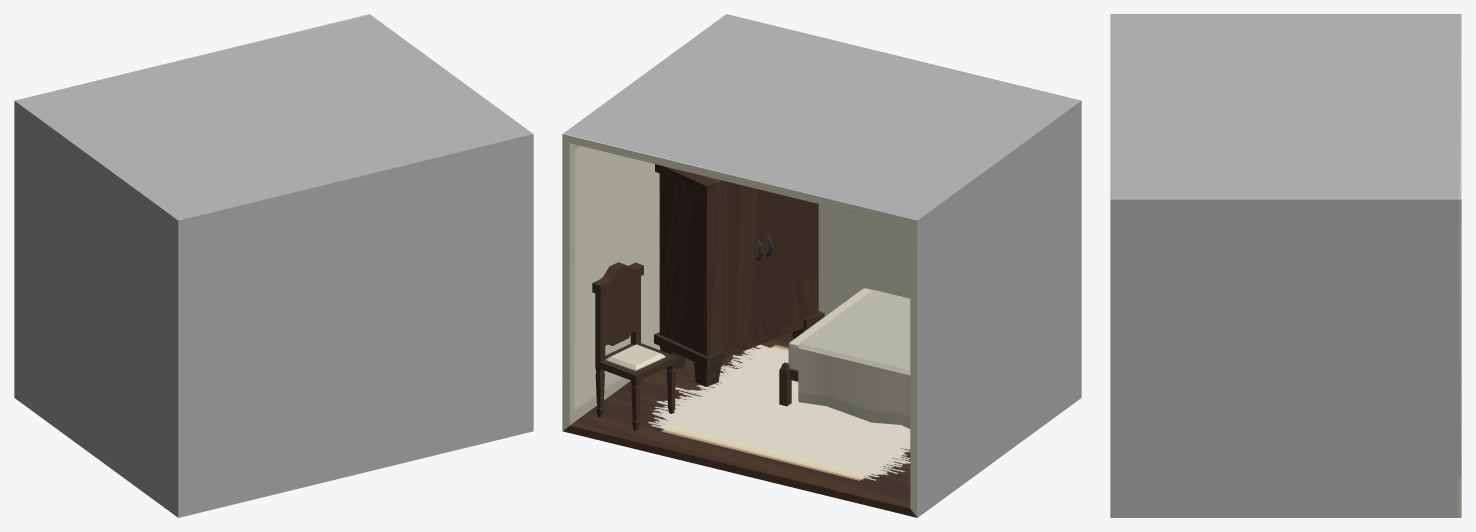
File: GuestRoom.fbx
3 renders of one model, left to right at view 1: azimuth 30°, elevation 25°; view 2: azimuth 150°, elevation 25°; view 3: azimuth 270°, elevation 25°, orthographic. The views are drawn at different scales.
Visible parts, largest first — view 1: GuestWall; view 2: GuestWall, GuestCabinet, GuestBed, GuestChair; view 3: GuestWall.
Boxes of the visible parts, left/top/right/bottom form: GuestWall: left=14, top=14, right=533, bottom=517; GuestWall: left=562, top=14, right=1081, bottom=517; GuestCabinet: left=654, top=164, right=824, bottom=386; GuestBed: left=779, top=288, right=910, bottom=428; GuestChair: left=592, top=262, right=676, bottom=430; GuestWall: left=1110, top=14, right=1461, bottom=517.
Size of the model in its own units: 500 by 400 by 400.
Materials: 1 (1 with a texture image).
